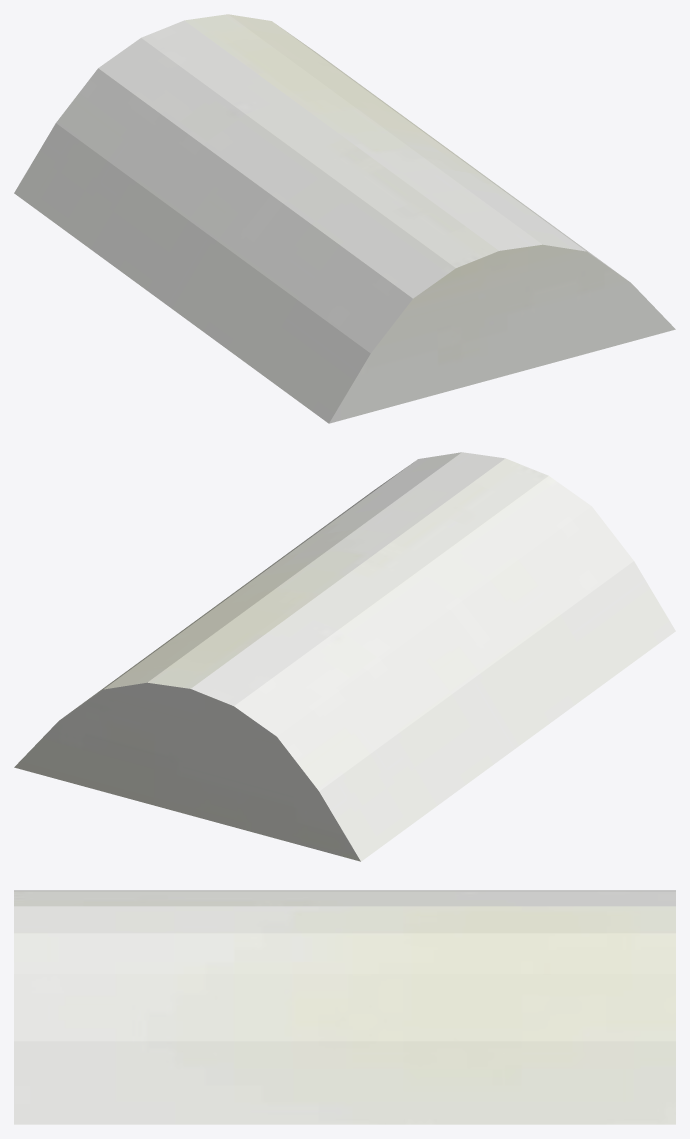
File: baulTop.obj
The picture shows the model from 3 angles, top to bottom: view 1: azimuth 30°, elevation 25°; view 2: azimuth 150°, elevation 25°; view 3: azimuth 270°, elevation 25°; orthographic projection. The views are drawn at different scales.
Parts seen in each view (by area): view 1: Plane.003; view 2: Plane.003; view 3: Plane.003.
Part boxes in pixels (<box>): Plane.003: <box>14,14,675,423</box>; Plane.003: <box>14,452,675,861</box>; Plane.003: <box>14,890,675,1124</box>.
Bounding box in the file's own units: 2.36 × 0.8538 × 3.71.
Materials: 1 (1 with a texture image).
